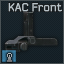KAC Folding front sight: (0, 0, 64, 64)
